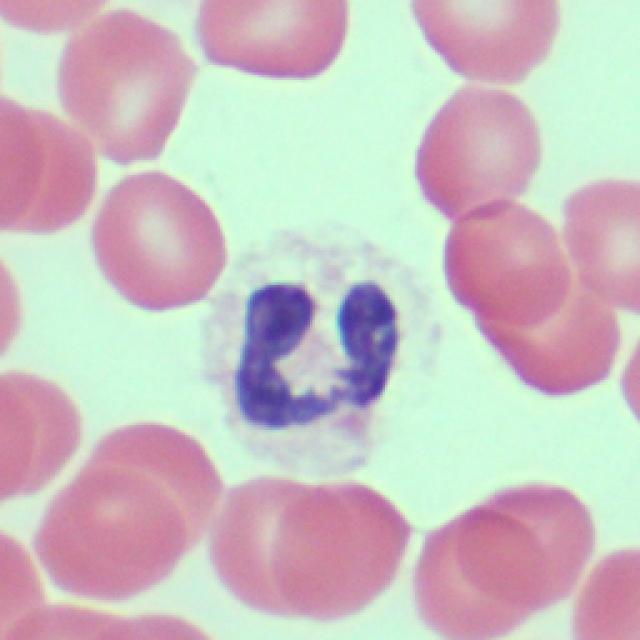RBC: (61, 8, 196, 165), (41, 464, 184, 604), (89, 171, 228, 313), (277, 482, 411, 620), (478, 266, 620, 396), (208, 483, 344, 613), (82, 419, 218, 547), (412, 507, 542, 640), (410, 89, 538, 214), (461, 486, 595, 600), (452, 201, 562, 327), (410, 0, 559, 85), (195, 0, 349, 82), (0, 110, 94, 235), (564, 179, 640, 310), (0, 370, 79, 492), (0, 92, 48, 228), (572, 545, 638, 640), (0, 536, 44, 640), (0, 608, 131, 639), (0, 0, 106, 32), (94, 618, 216, 640)
WBC: (201, 218, 445, 480)
